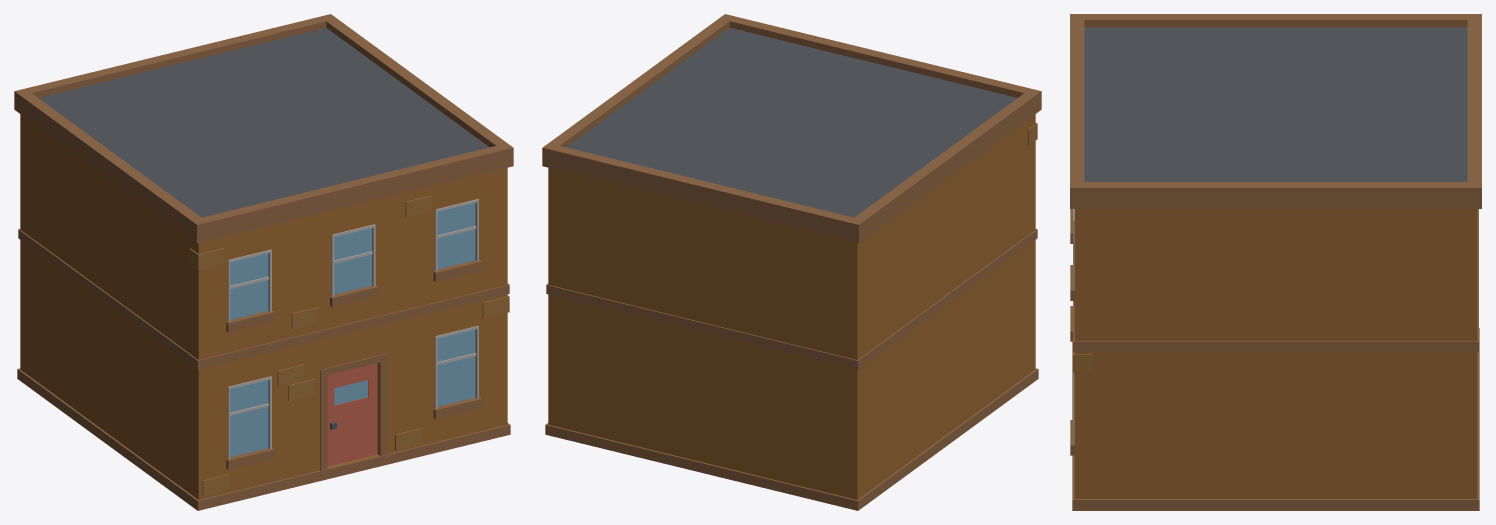
File: House_10.fbx
The picture shows the model from 3 angles, left to right: view 1: azimuth 30°, elevation 25°; view 2: azimuth 150°, elevation 25°; view 3: azimuth 270°, elevation 25°; orthographic projection. The views are drawn at different scales.
Parts seen in each view (by area): view 1: House_10; view 2: House_10; view 3: House_10.
Boxes of the visible parts, x1,y1,x2,y2 form: House_10: [14, 14, 513, 510]; House_10: [542, 14, 1041, 510]; House_10: [1070, 14, 1481, 510].
Size of the model in its own units: 14.04 by 12.18 by 14.04.
